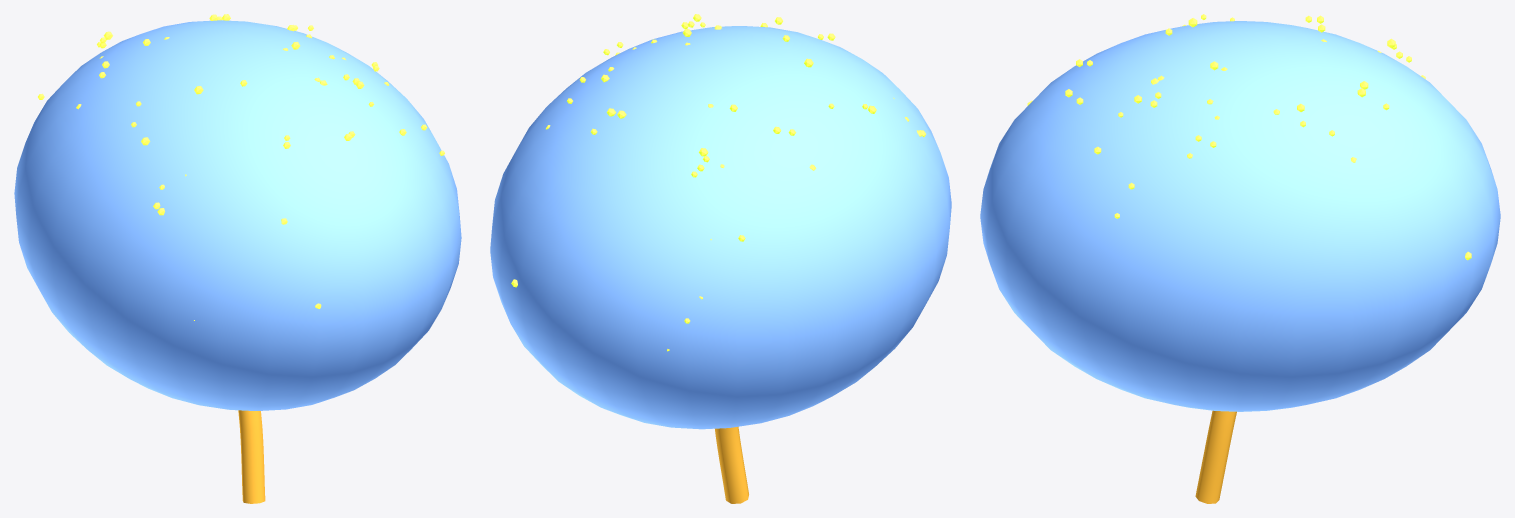
The model's file is cerebro.glb.
3 views of the same model, side by side, from view 1: azimuth 30°, elevation 25°; view 2: azimuth 150°, elevation 25°; view 3: azimuth 270°, elevation 25° (orthographic). The views are drawn at different scales.
Visible parts, largest first — view 1: GlassShell, GoldenBranches, Synapses; view 2: GlassShell, GoldenBranches, Synapses; view 3: GlassShell, GoldenBranches, Synapses.
Boxes of the visible parts, bbox=[...] form: GlassShell: bbox=[14, 20, 461, 410]; GoldenBranches: bbox=[238, 410, 265, 503]; Synapses: bbox=[38, 14, 444, 320]; GlassShell: bbox=[490, 26, 951, 429]; GoldenBranches: bbox=[715, 426, 748, 503]; Synapses: bbox=[511, 14, 925, 351]; GlassShell: bbox=[980, 21, 1500, 411]; GoldenBranches: bbox=[1195, 410, 1236, 503]; Synapses: bbox=[1027, 14, 1471, 260].
Size of the model in its own units: 2 by 2.3 by 2.36.
